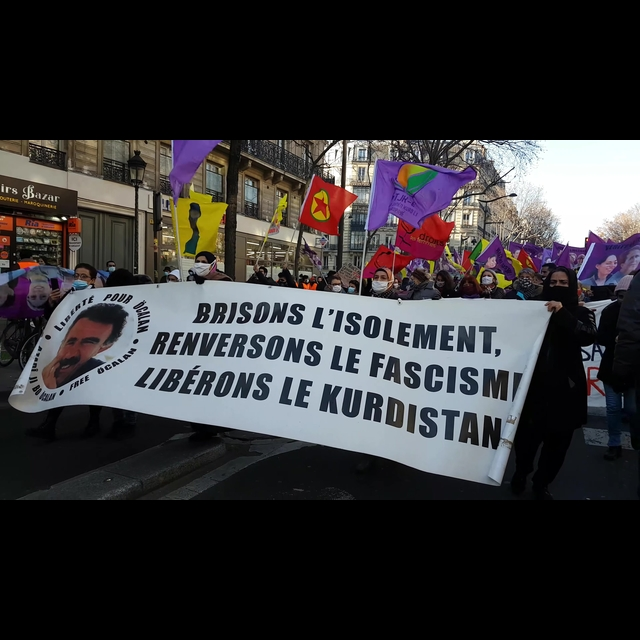APO: (47, 307, 127, 384)
PKK: (308, 186, 339, 222)
